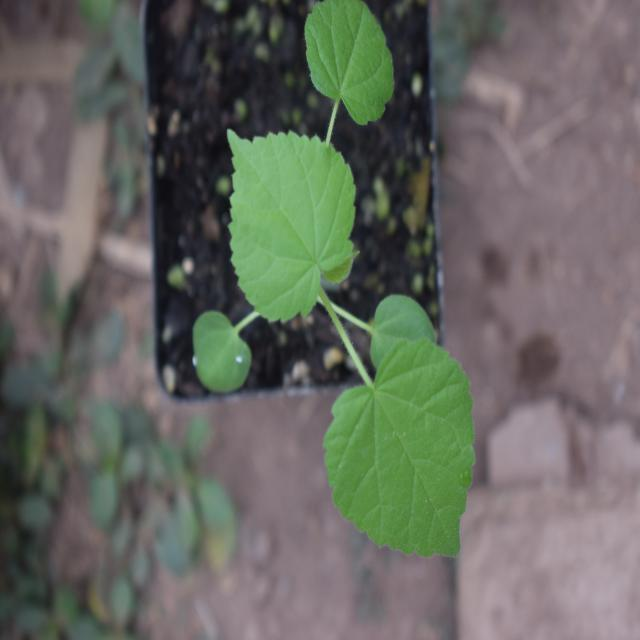abutilon theophrasti: (206, 0, 486, 561)
